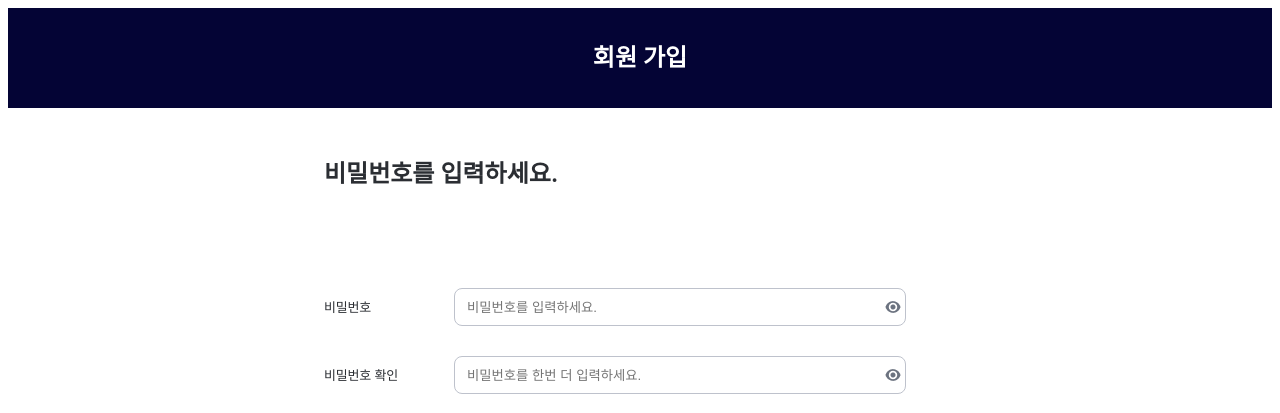
Test: 회원가입 5페이지 › 패스워드 입력 › 패스워드 정규식 통과 확인
Type "test" into the password field with test id "password-input" at (664, 307), box [465, 297, 863, 317]
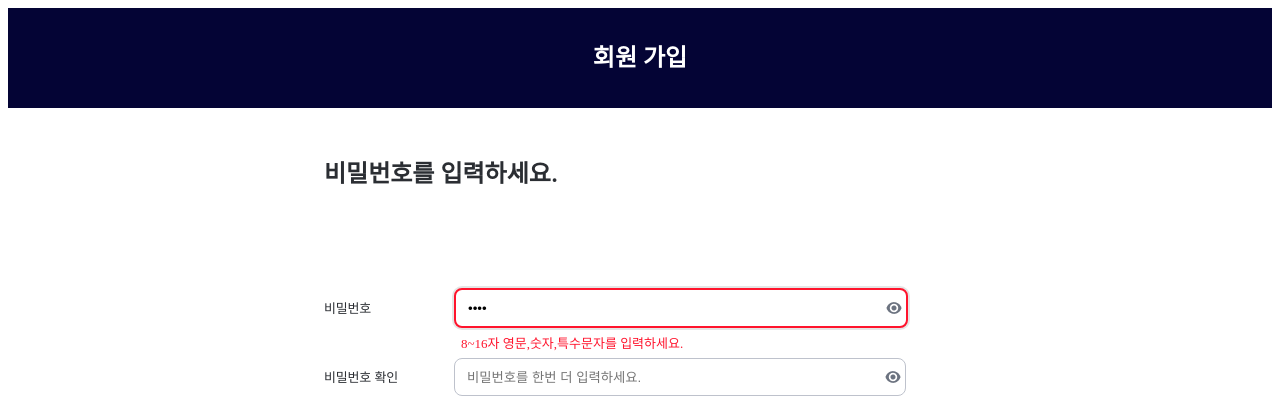
expect the text "8~16자 영문,숫자,특수문자를 입력하세요." is shown: met, box [461, 333, 683, 352]
Type "qwer1234@" into the password field with test id "password-input" at (665, 308), box [466, 298, 864, 318]
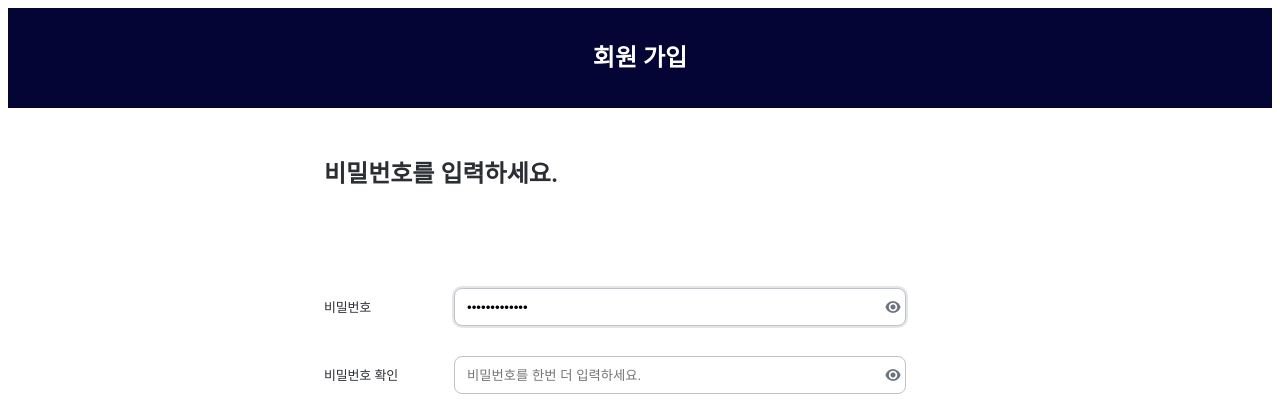
expect the text "8~16자 영문,숫자,특수문자를 입력하세요." is gone: met
